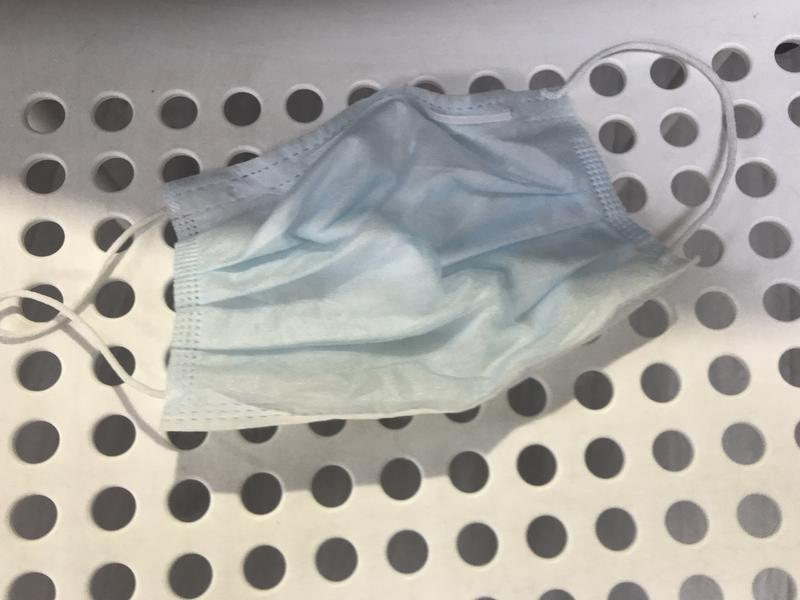medical_mask: (1, 43, 738, 434)
